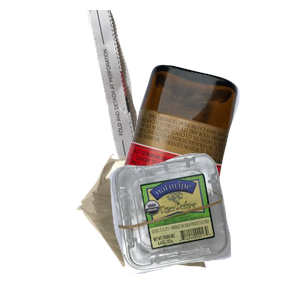glass: (113, 62, 300, 242)
paper: (85, 10, 224, 190)
plastic: (106, 151, 300, 300)
trash: (74, 148, 273, 300)
